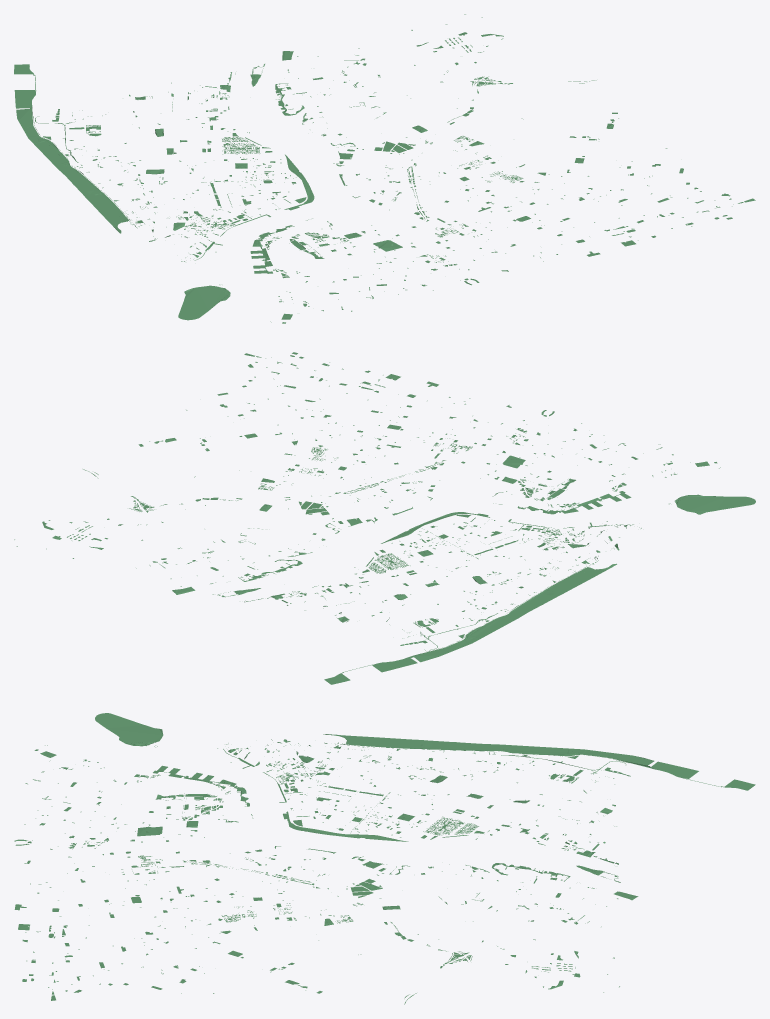
Rendered from green.glb.
3 renders of one model, top to bottom at view 1: azimuth 30°, elevation 25°; view 2: azimuth 150°, elevation 25°; view 3: azimuth 270°, elevation 25°, orthographic. The views are drawn at different scales.
Visible parts, largest first — view 1: green; view 2: green; view 3: green.
Boxes of the visible parts, x1,y1,x2,y2 form: green: [14, 14, 755, 323]; green: [14, 352, 755, 684]; green: [14, 713, 755, 1004].
Bounding box in the file's own units: 10514 × 170 × 11236.
